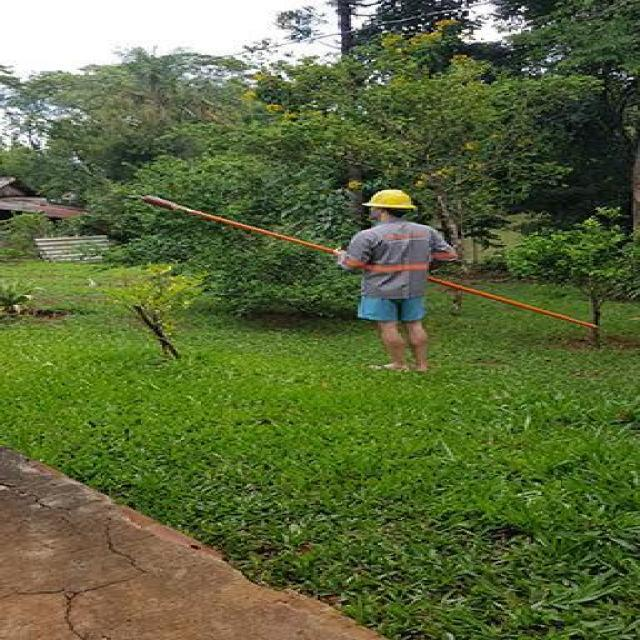hat: (358, 188, 420, 224)
